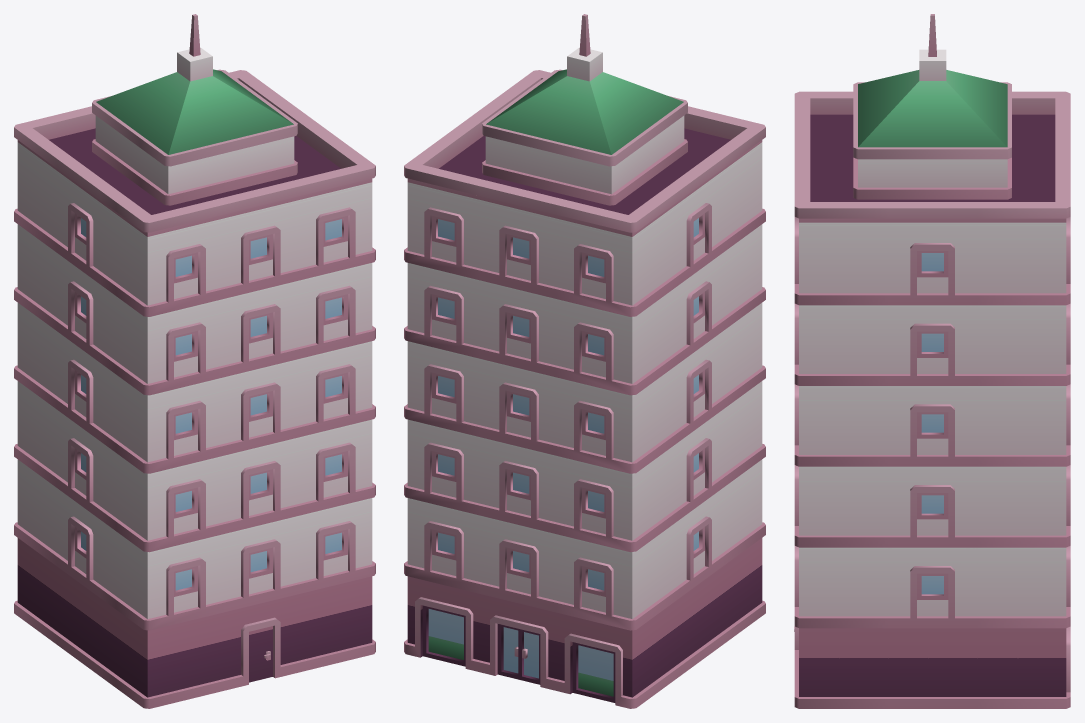
File: tower_6story.obj
3 renders of one model, left to right at view 1: azimuth 30°, elevation 25°; view 2: azimuth 150°, elevation 25°; view 3: azimuth 270°, elevation 25°, orthographic. The views are drawn at different scales.
Visible parts, largest first — view 1: building-m; view 2: building-m; view 3: building-m.
Part boxes in pixels (x1,y1,x2,y2): building-m: [14, 14, 375, 708]; building-m: [404, 14, 765, 708]; building-m: [794, 14, 1070, 708].
Bounding box in the file's own units: 24.8 × 63 × 24.84.
Materials: 1 (1 with a texture image).
